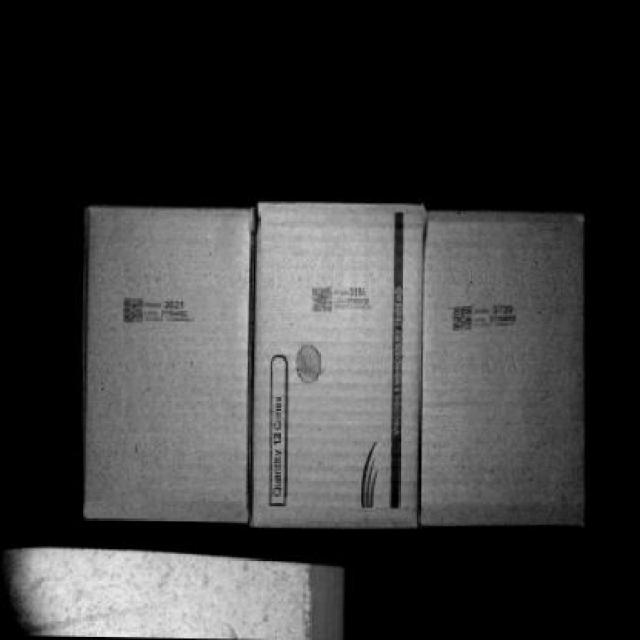cardboxes: (420, 205, 592, 529), (254, 203, 423, 526), (87, 207, 258, 524)
